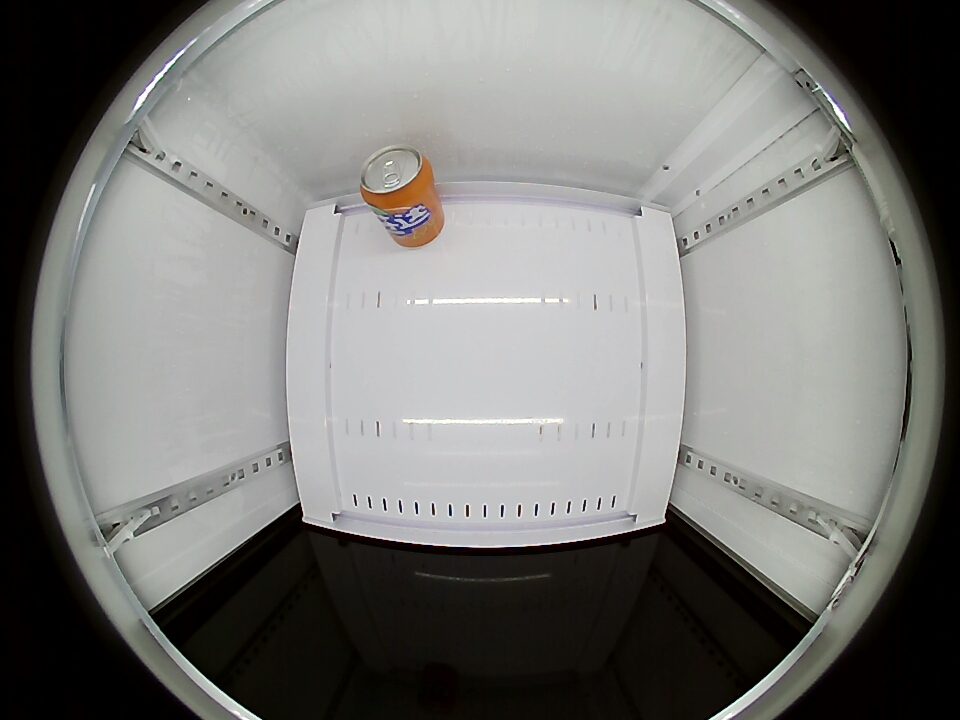fenda: (359, 145, 434, 211)
